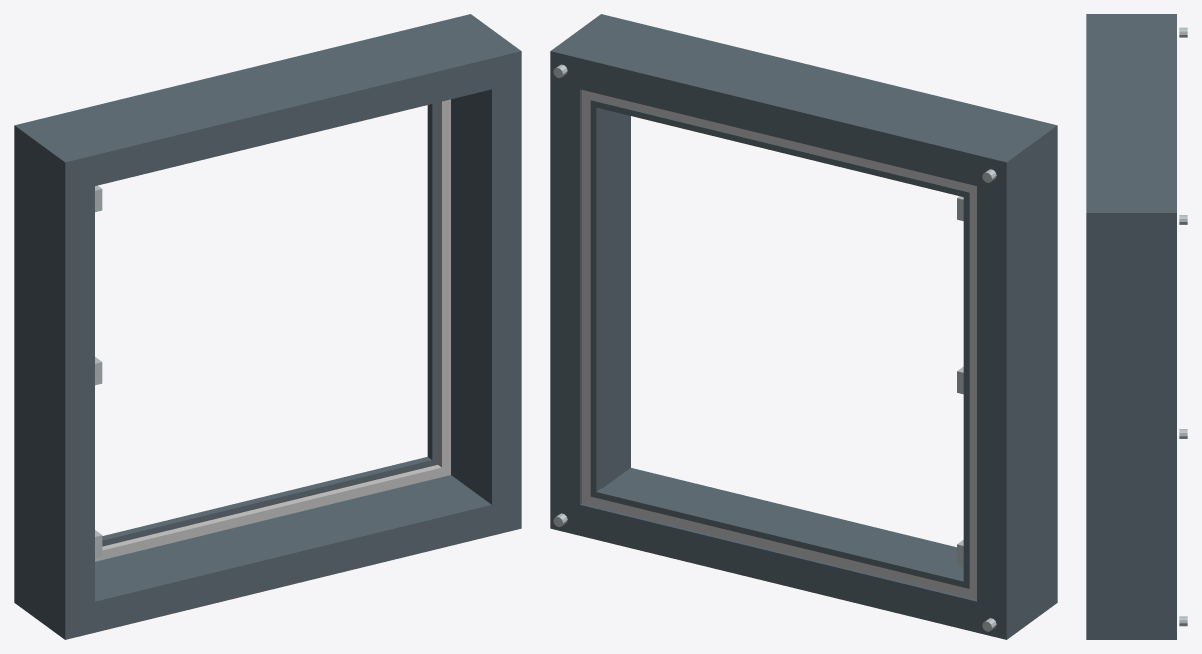
The model's file is body.obj.
The picture shows the model from 3 angles, left to right: view 1: azimuth 30°, elevation 25°; view 2: azimuth 150°, elevation 25°; view 3: azimuth 270°, elevation 25°; orthographic projection. The views are drawn at different scales.
Bounding box in the file's own units: 4 × 4 × 0.86.
